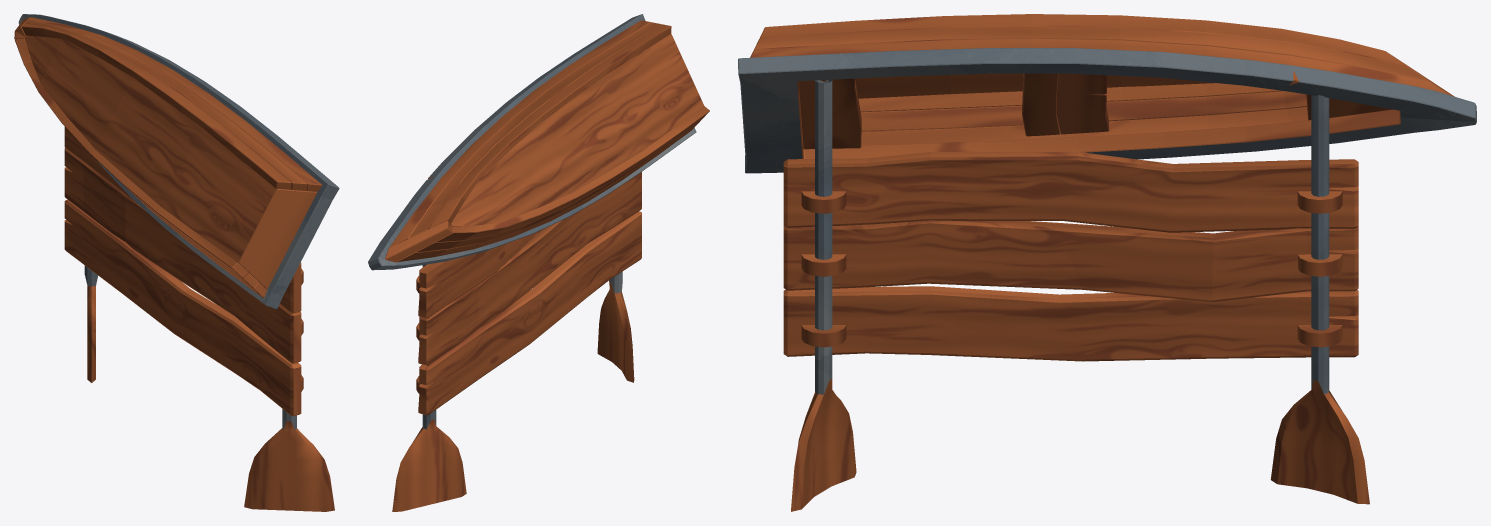
The model's file is SM_Board_Of_Request.fbx.
3 renders of one model, left to right at view 1: azimuth 30°, elevation 25°; view 2: azimuth 150°, elevation 25°; view 3: azimuth 270°, elevation 25°, orthographic. The views are drawn at different scales.
Visible parts, largest first — view 1: SM_Board_Of_Request; view 2: SM_Board_Of_Request; view 3: SM_Board_Of_Request.
Part boxes in pixels (x1,y1,x2,y2): SM_Board_Of_Request: (14,14,339,511); SM_Board_Of_Request: (368,14,709,511); SM_Board_Of_Request: (738,14,1476,511).
Size of the model in its own units: 90.55 by 273 by 402.
